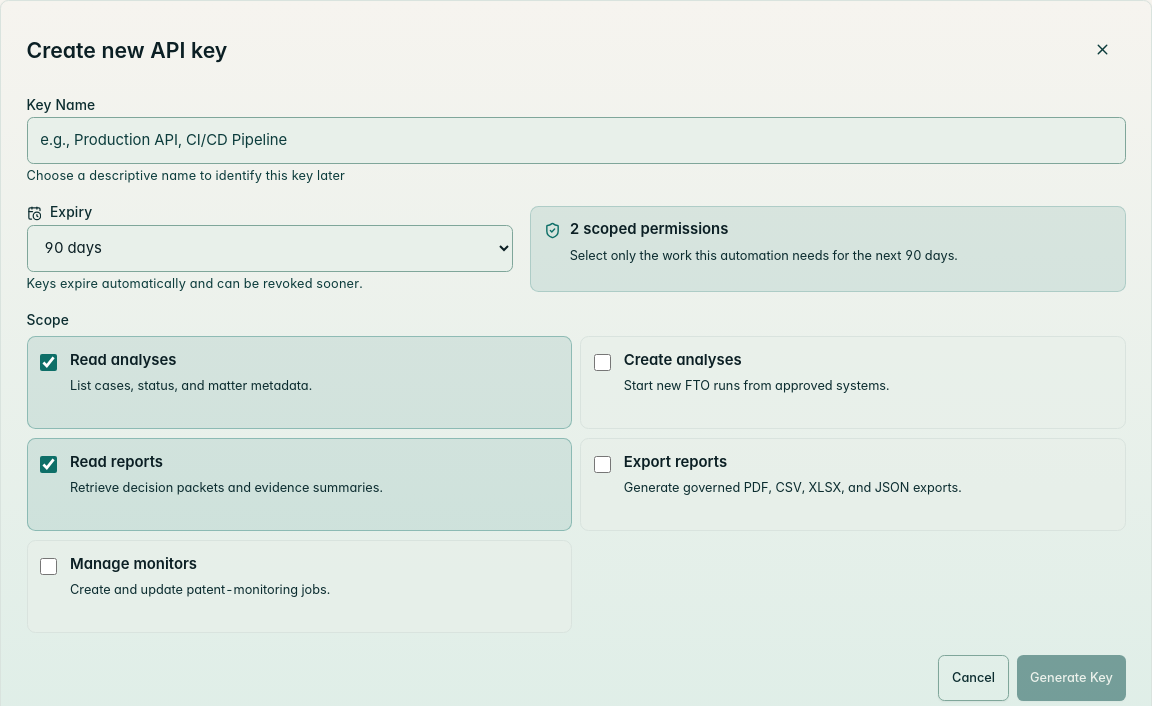
Test case: CreateApiKeyForm › refreshes the ledger instead of retrying an unknown API-key creation
In the field with placeholder "e.g., Production API, CI/CD Pipeline": point(576, 140) [26,117,1126,164], type "Production reports"
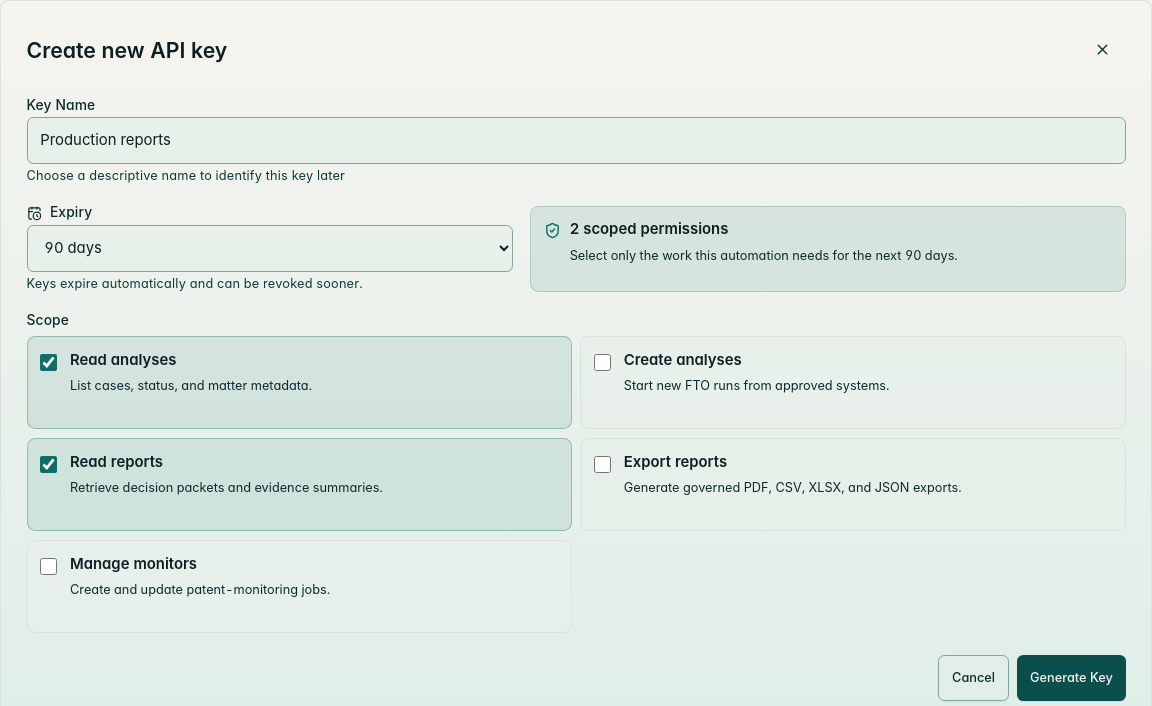
Click the button "Generate Key": point(1071, 678) [1017,655,1126,701]
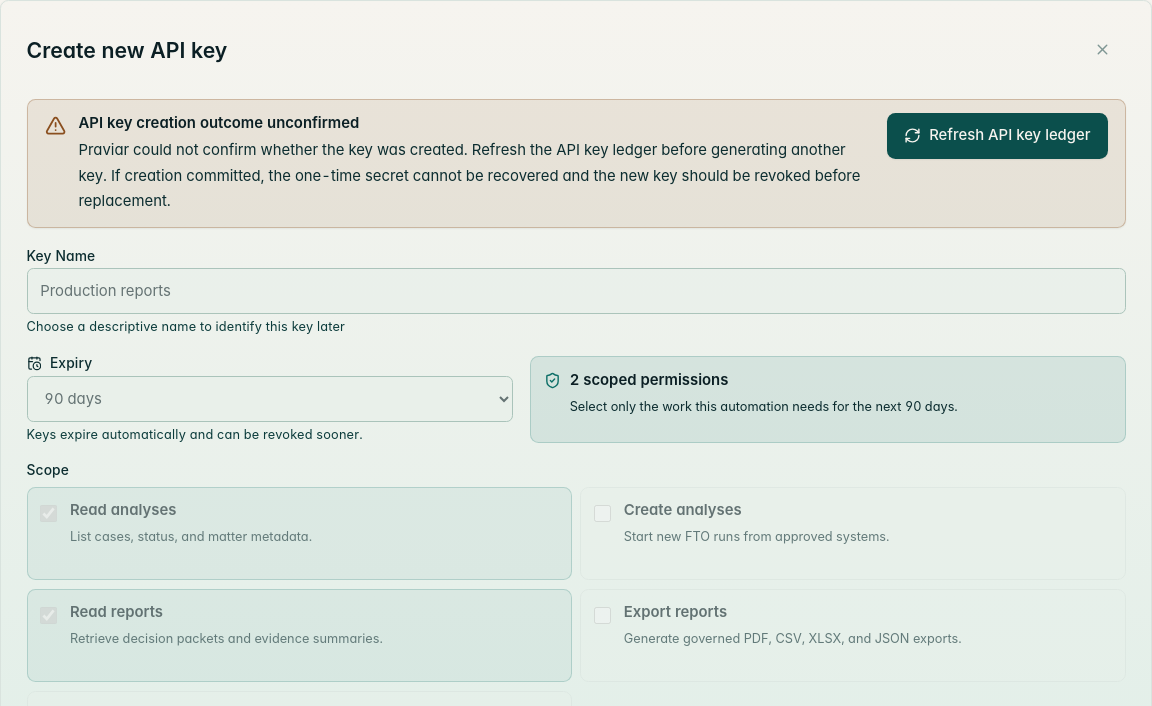
Expected: the message with test id "api-key-create-recovery" does not show "secret backend stack", [26,99,1126,228]
Expected: the message with test id "api-key-create-recovery" shows "the one-time secret cannot be recovered", [78,141,860,210]
Click the button with test id "api-key-create-recovery-action": point(997, 136) [887,112,1108,159]
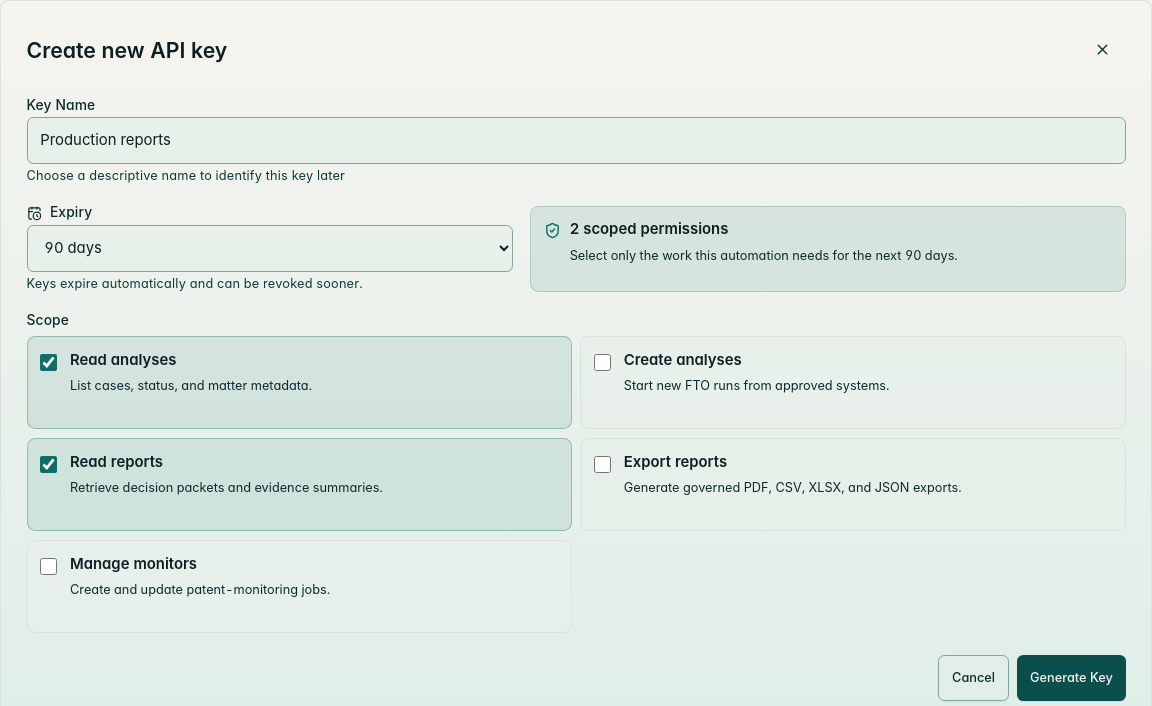
Expected: the message with test id "api-key-create-recovery" is gone
